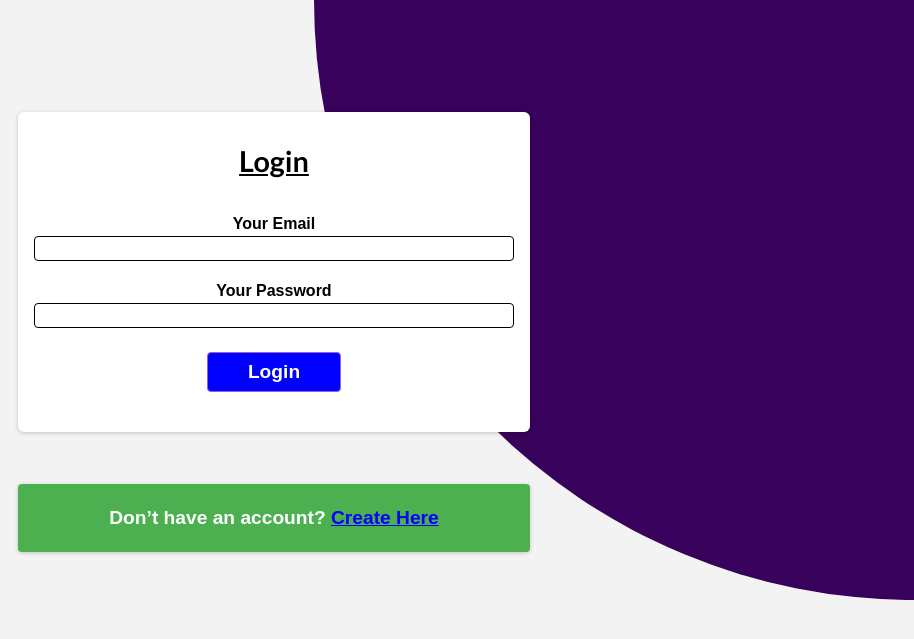
Scenario: SignUp Component › should render confirm password input field in SignUp mode
This screenshot has width=914, height=639.
Note: First, click the button to switch from Login to Sign Up mode
Click the button "Create Here": click(385, 518) x1=331 y1=507 x2=439 y2=529
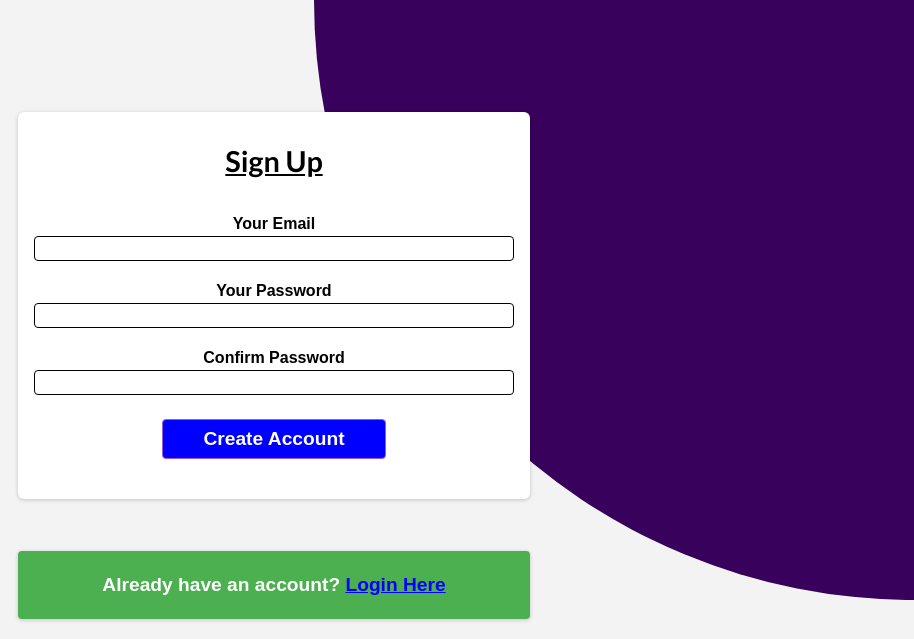
Result: the password field labelled "Confirm Password" is shown at x1=34 y1=370 x2=514 y2=395
